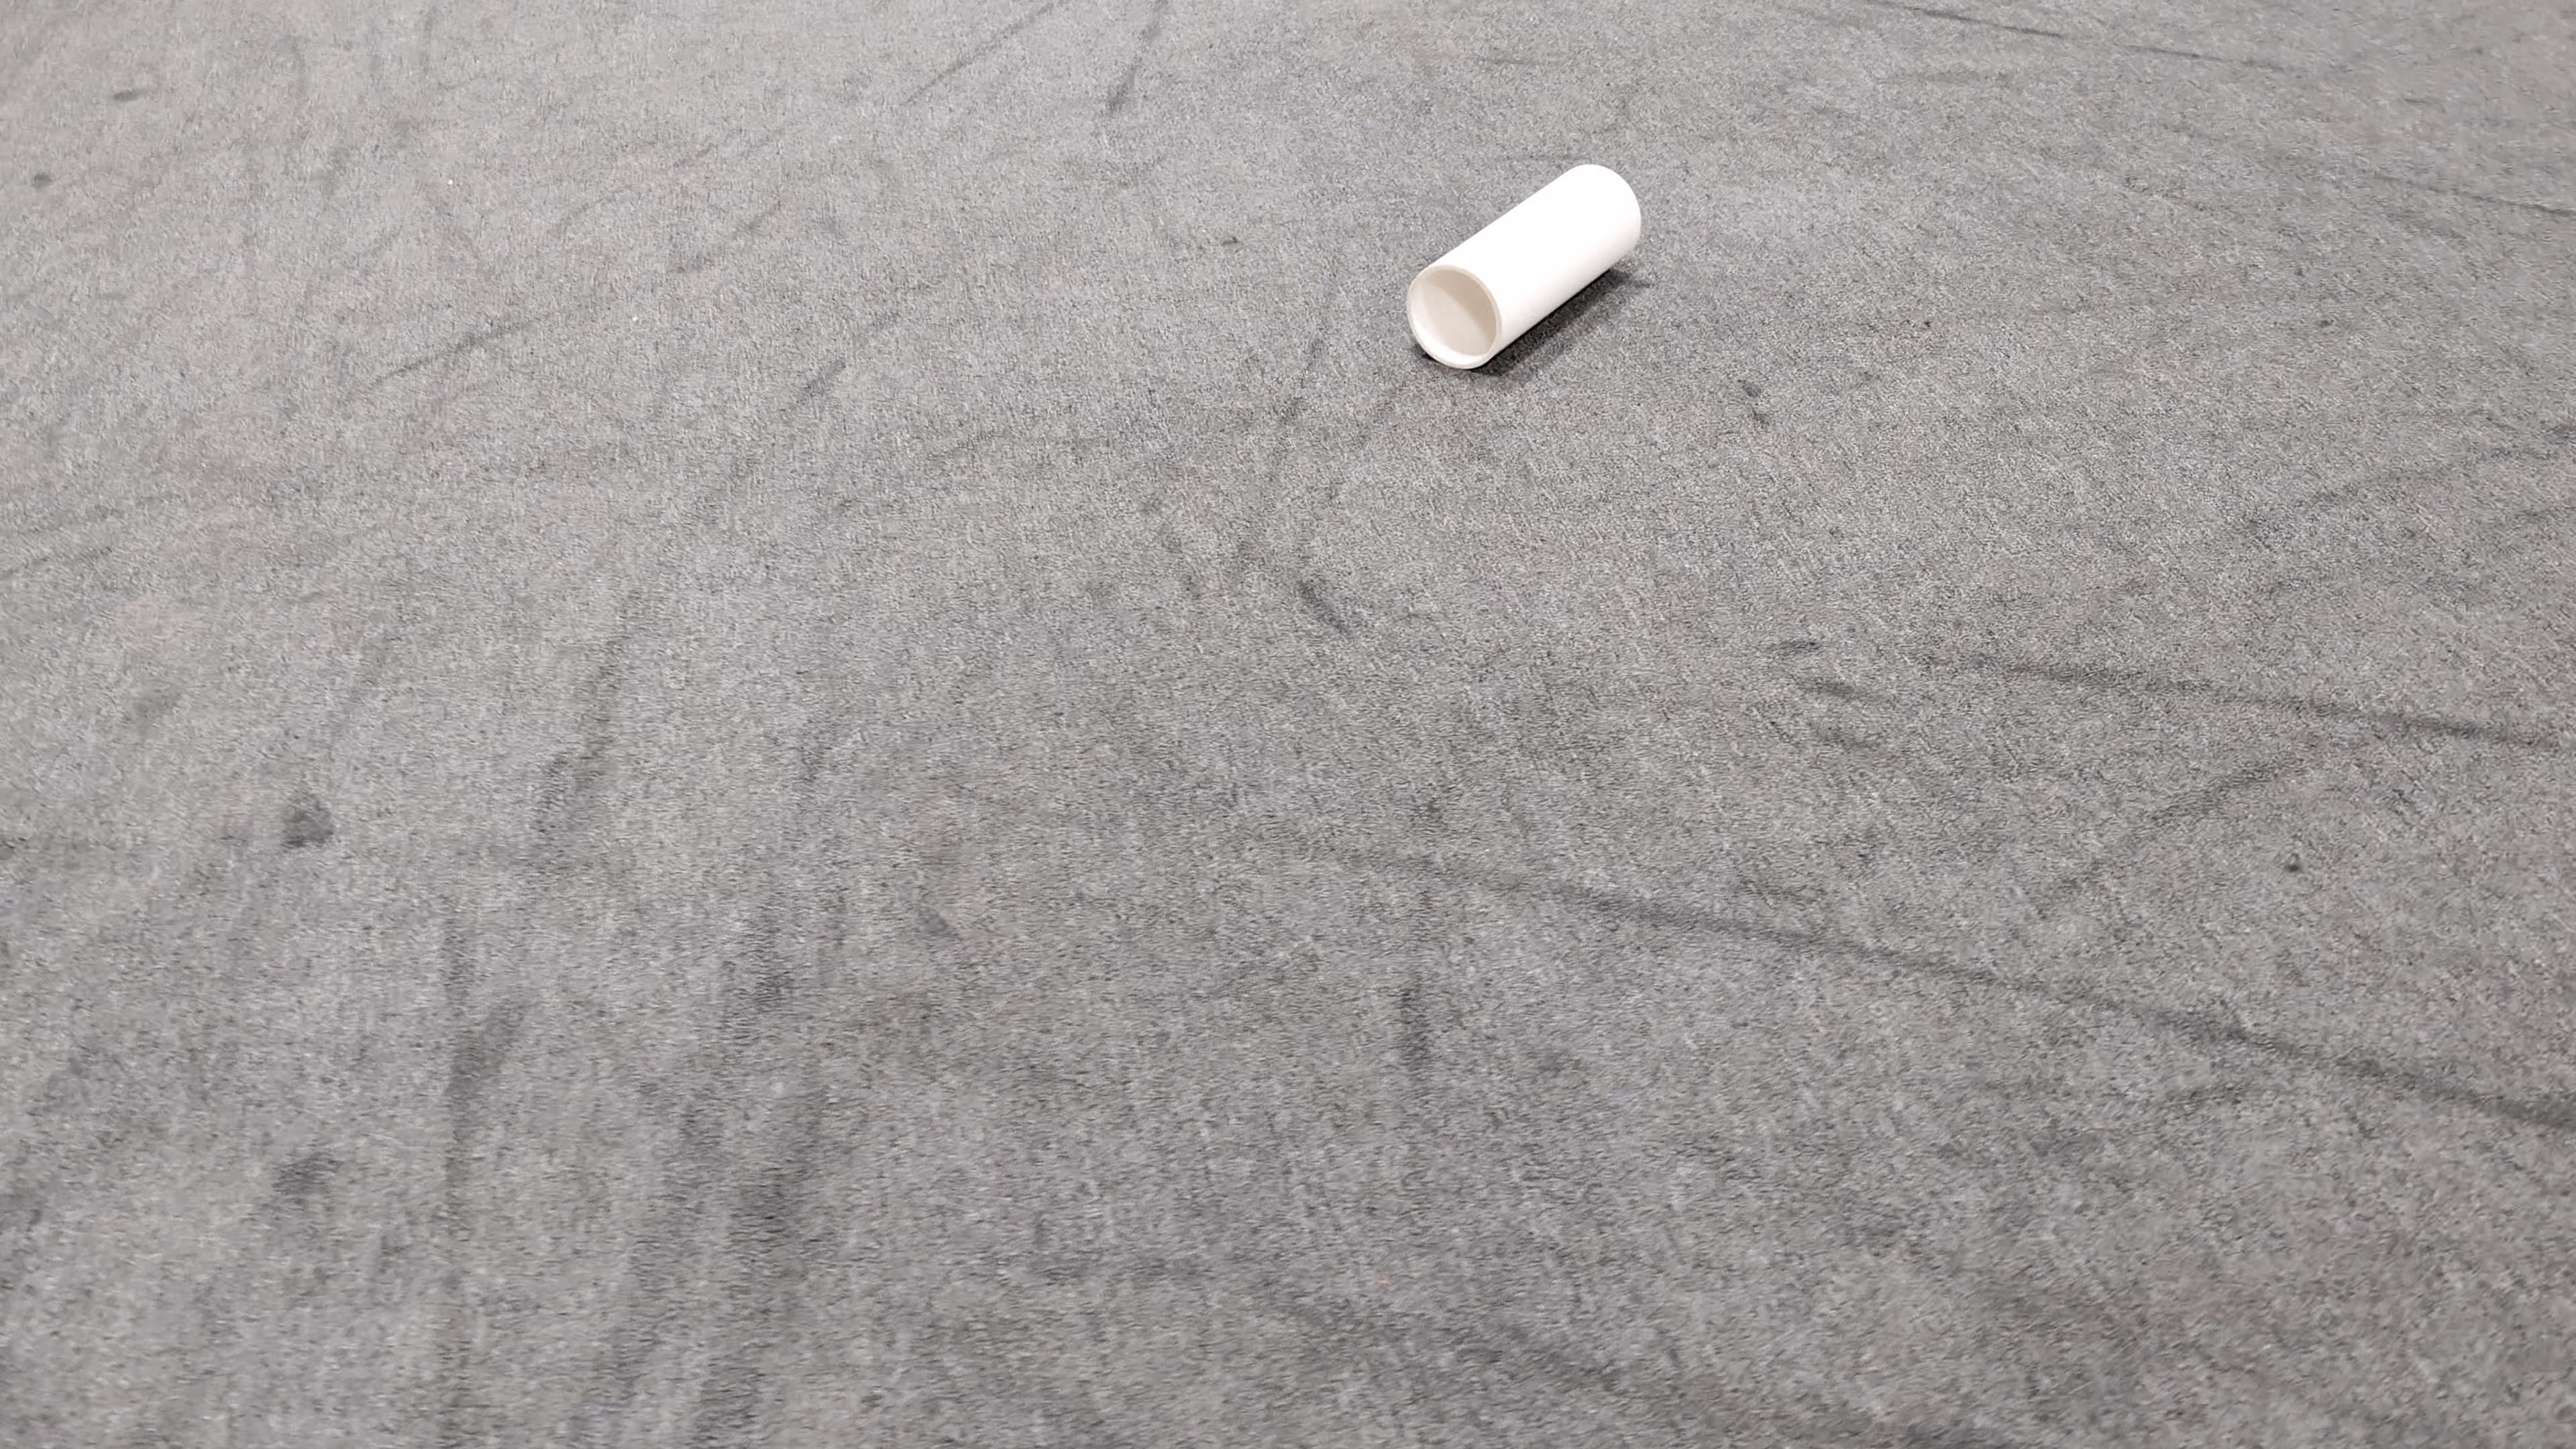coral: (1407, 165, 1640, 370)
